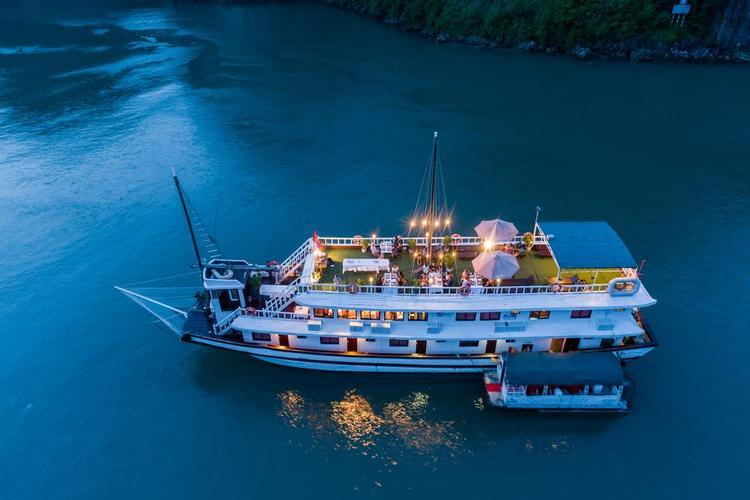Ship: (103, 164, 689, 365)
